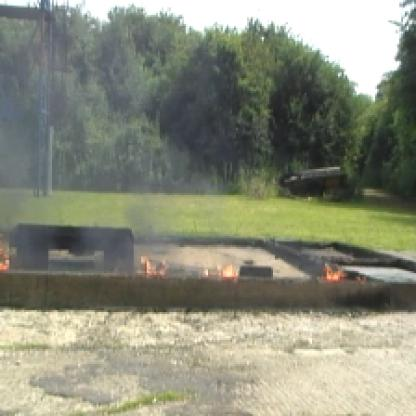Fire: (199, 251, 247, 284), (314, 254, 364, 282), (136, 243, 172, 279), (2, 241, 17, 275)
Smoke: (2, 2, 128, 277)
